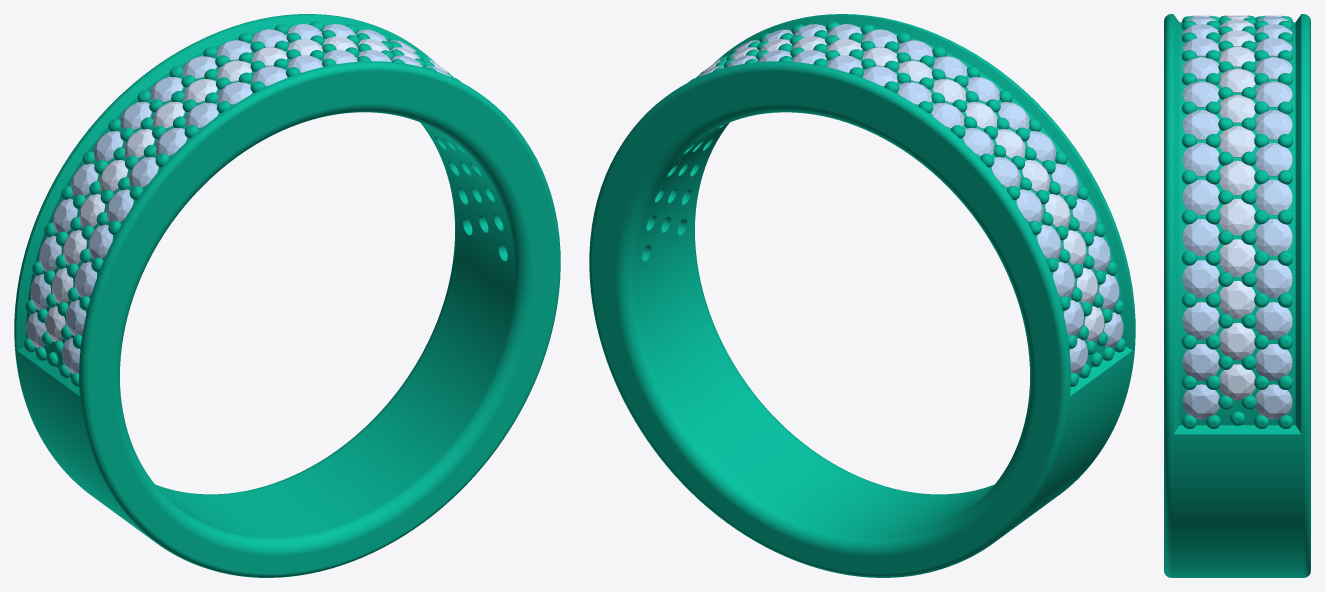
3 renders of one model, left to right at view 1: azimuth 30°, elevation 25°; view 2: azimuth 150°, elevation 25°; view 3: azimuth 270°, elevation 25°, orthographic.
Visible parts, largest first — view 1: VR55 - 19-10-24(front).3dm; view 2: VR55 - 19-10-24(front).3dm; view 3: VR55 - 19-10-24(front).3dm, Diamond_Round (×36).
Boxes of the visible parts, left/top/right/bottom form: VR55 - 19-10-24(front).3dm: left=14, top=14, right=560, bottom=577; VR55 - 19-10-24(front).3dm: left=589, top=14, right=1135, bottom=577; VR55 - 19-10-24(front).3dm: left=1164, top=14, right=1310, bottom=577; Diamond_Round (×36): left=1182, top=19, right=1292, bottom=419.
Bounding box in the file's own units: 2.78 × 2.78 × 0.7247.
